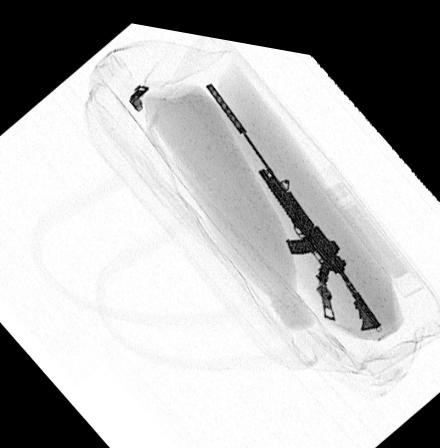Gun: (204, 74, 380, 318)
